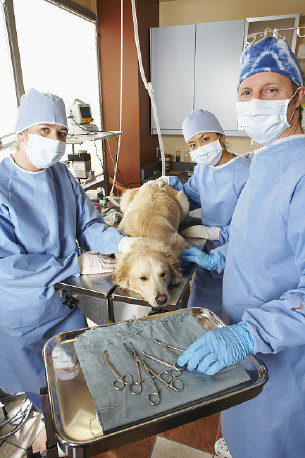face_mask: (236, 74, 289, 146), (25, 123, 65, 169), (186, 131, 219, 166)
